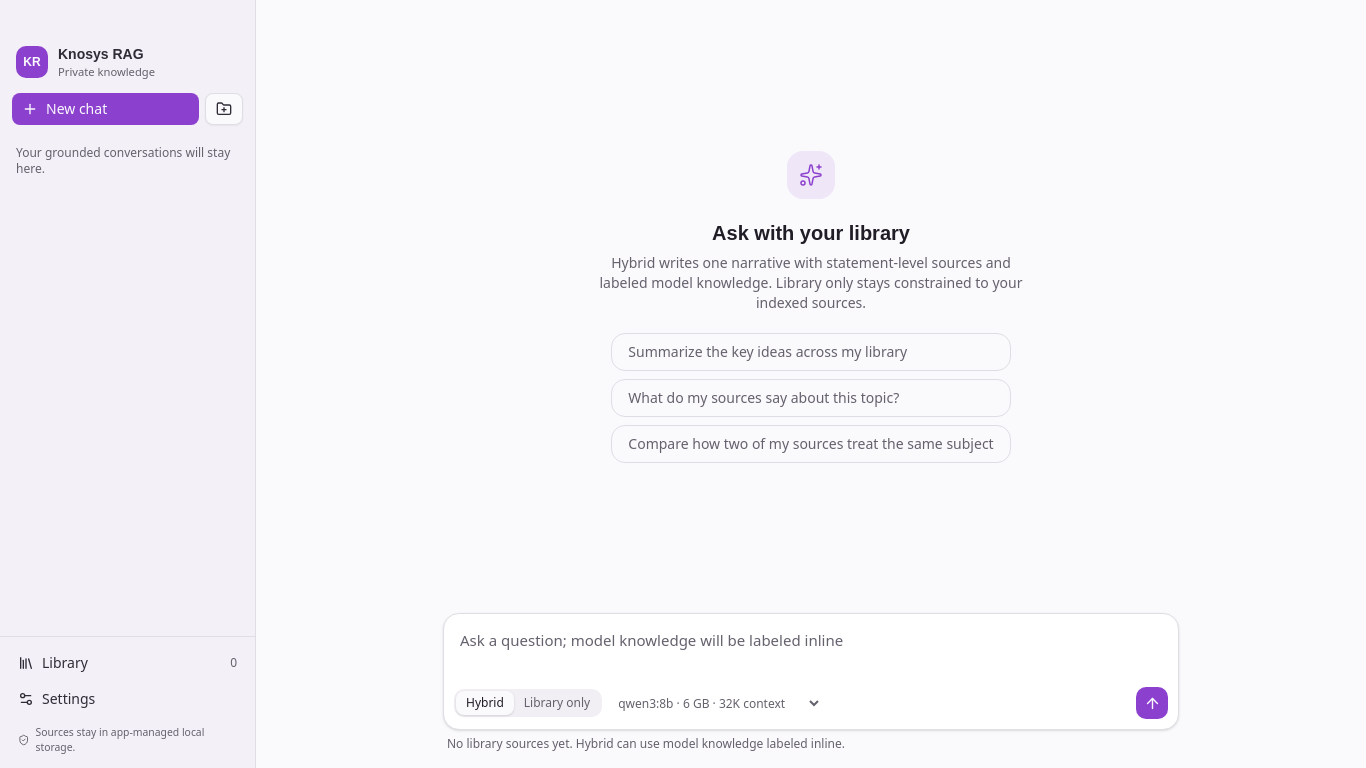
folders › creates a folder from the sidebar
Click the button named "New folder".
click(224, 109)  # box [205,93,243,125]
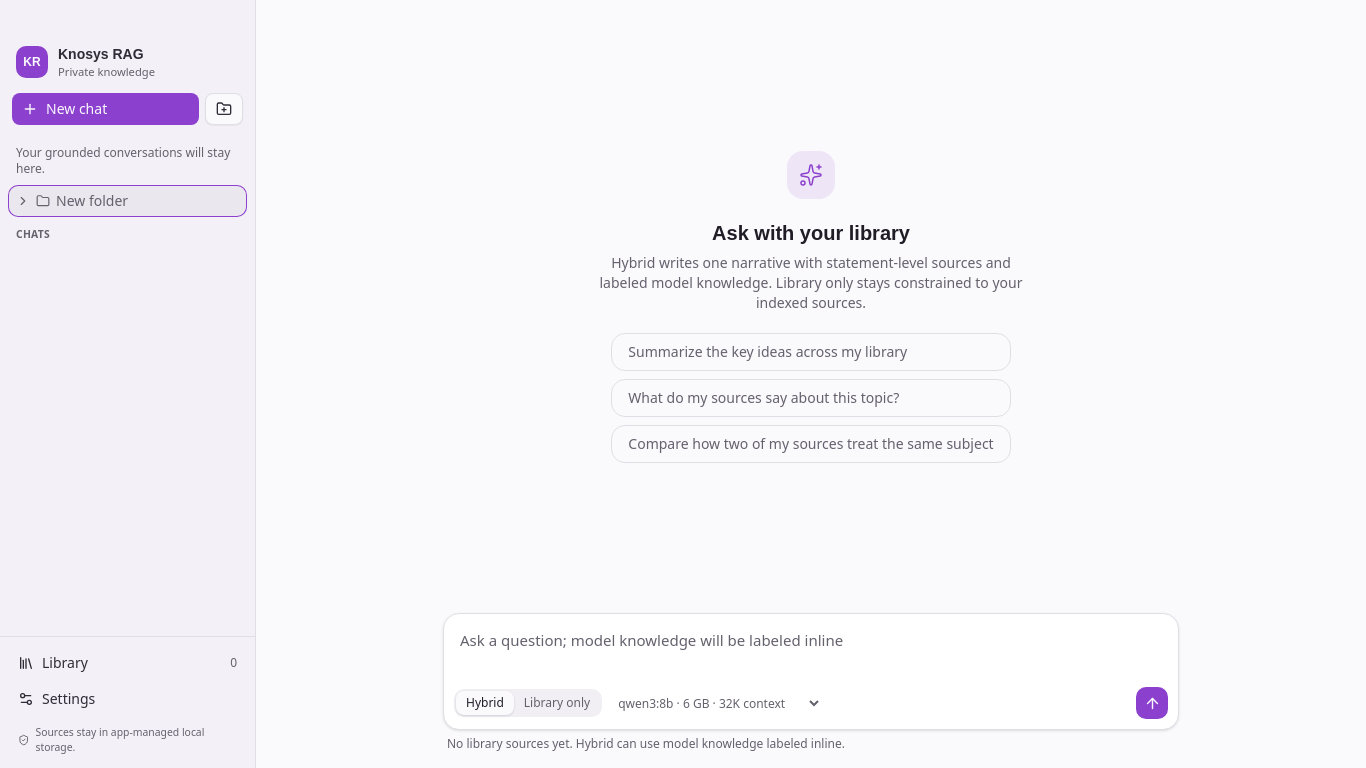
Type "Garden research" into the field named "New folder name".
click(148, 201); type("Garden research")  # box [56,191,239,211]
Then press Enter
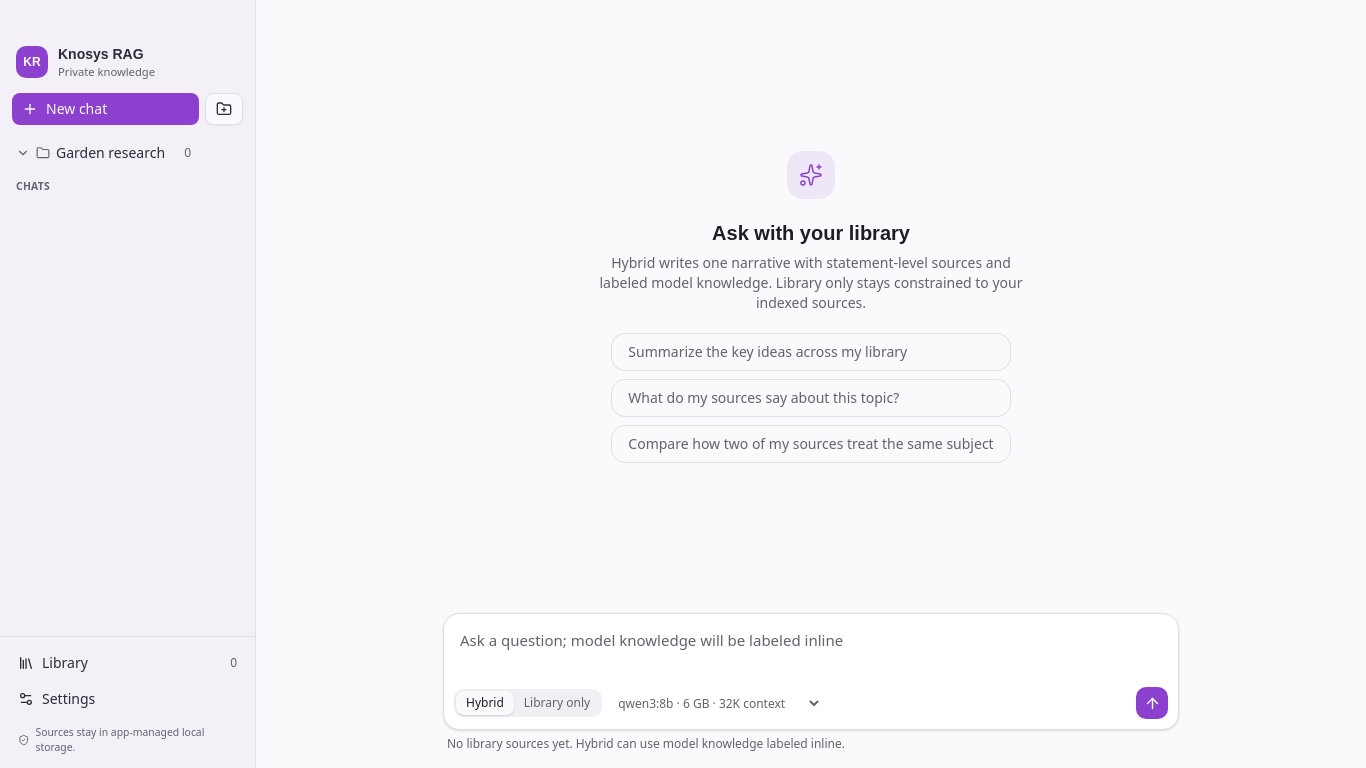
expect the element named "Folder Garden research" is shown: met, box [8,137,247,169]
